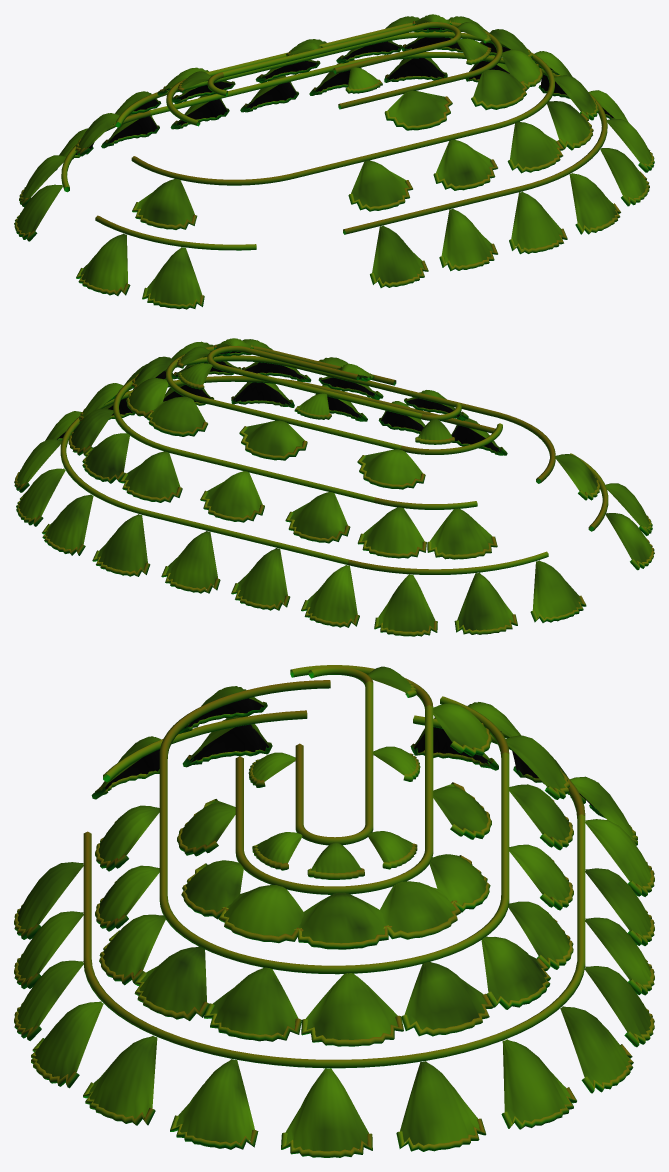
Rendered from shrine_roof_fan.glb.
3 renders of one model, top to bottom at view 1: azimuth 30°, elevation 25°; view 2: azimuth 150°, elevation 25°; view 3: azimuth 270°, elevation 25°, orthographic. The views are drawn at different scales.
Visible parts, largest first — view 1: shrine_roof_fan; view 2: shrine_roof_fan; view 3: shrine_roof_fan.
Part boxes in pixels (left/top/right/bottom): shrine_roof_fan: left=14, top=14, right=654, bottom=309; shrine_roof_fan: left=14, top=338, right=654, bottom=636; shrine_roof_fan: left=14, top=665, right=654, bottom=1157.
Size of what is drawn, in the model's own units: 28.73 by 6.67 by 19.16.
